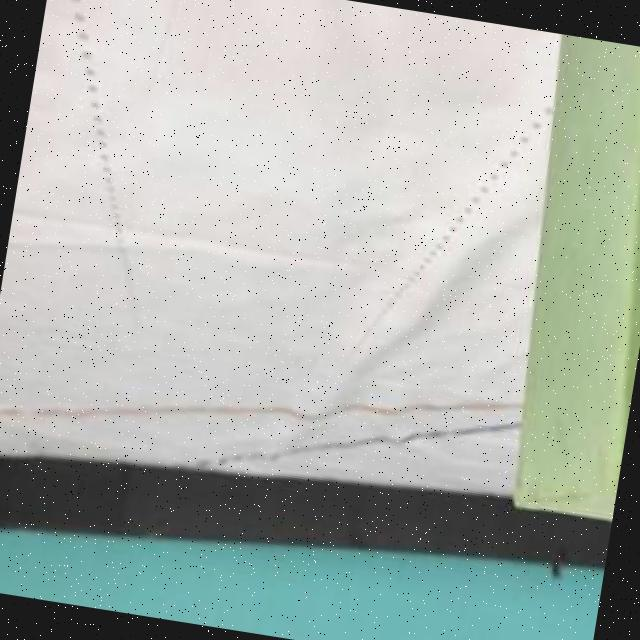greenbox: (485, 34, 640, 526)
